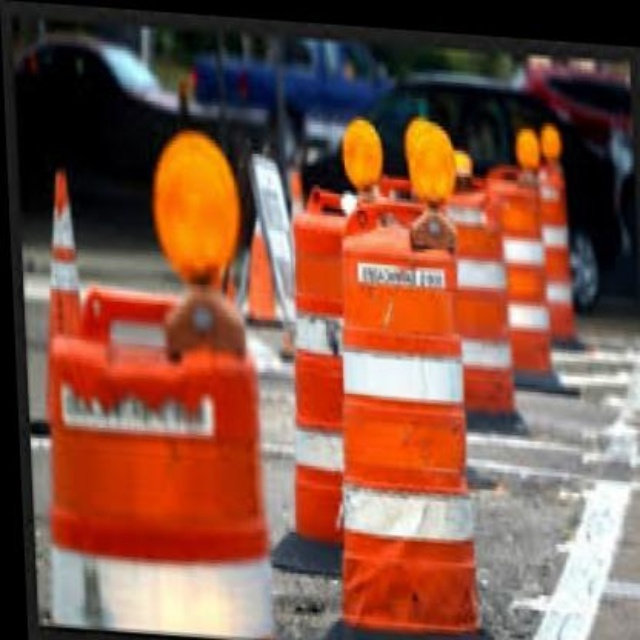obstacle: (30, 310, 265, 639), (314, 198, 473, 632), (275, 181, 355, 547)
